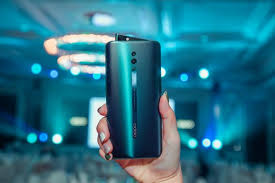oppo: (102, 37, 162, 160)
